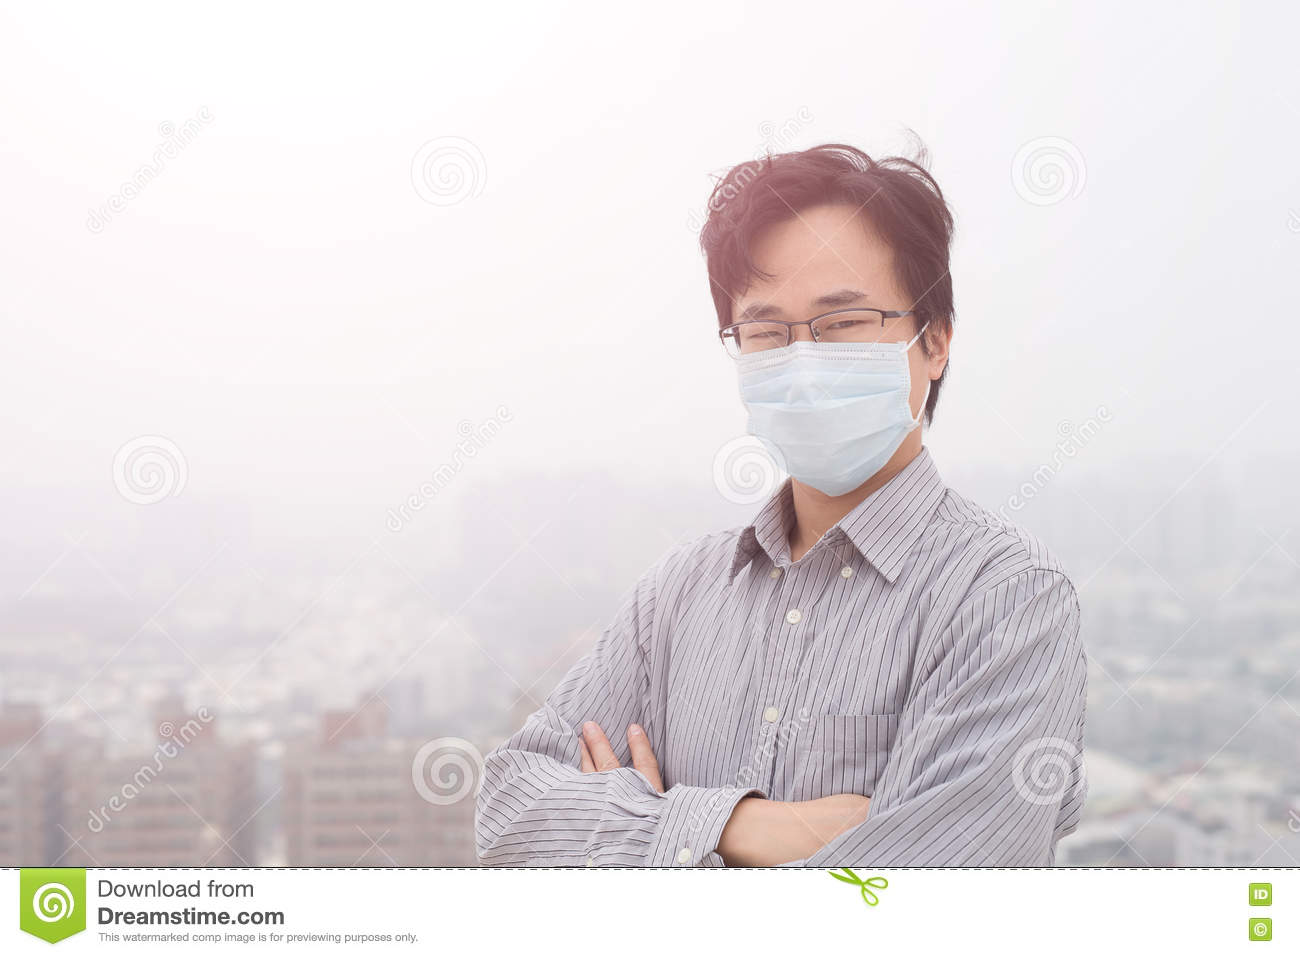mask: (728, 344, 944, 476)
